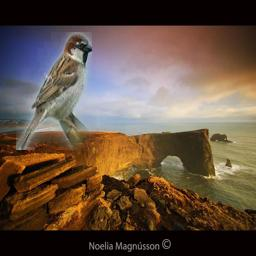Sparrow: (16, 32, 92, 150)
